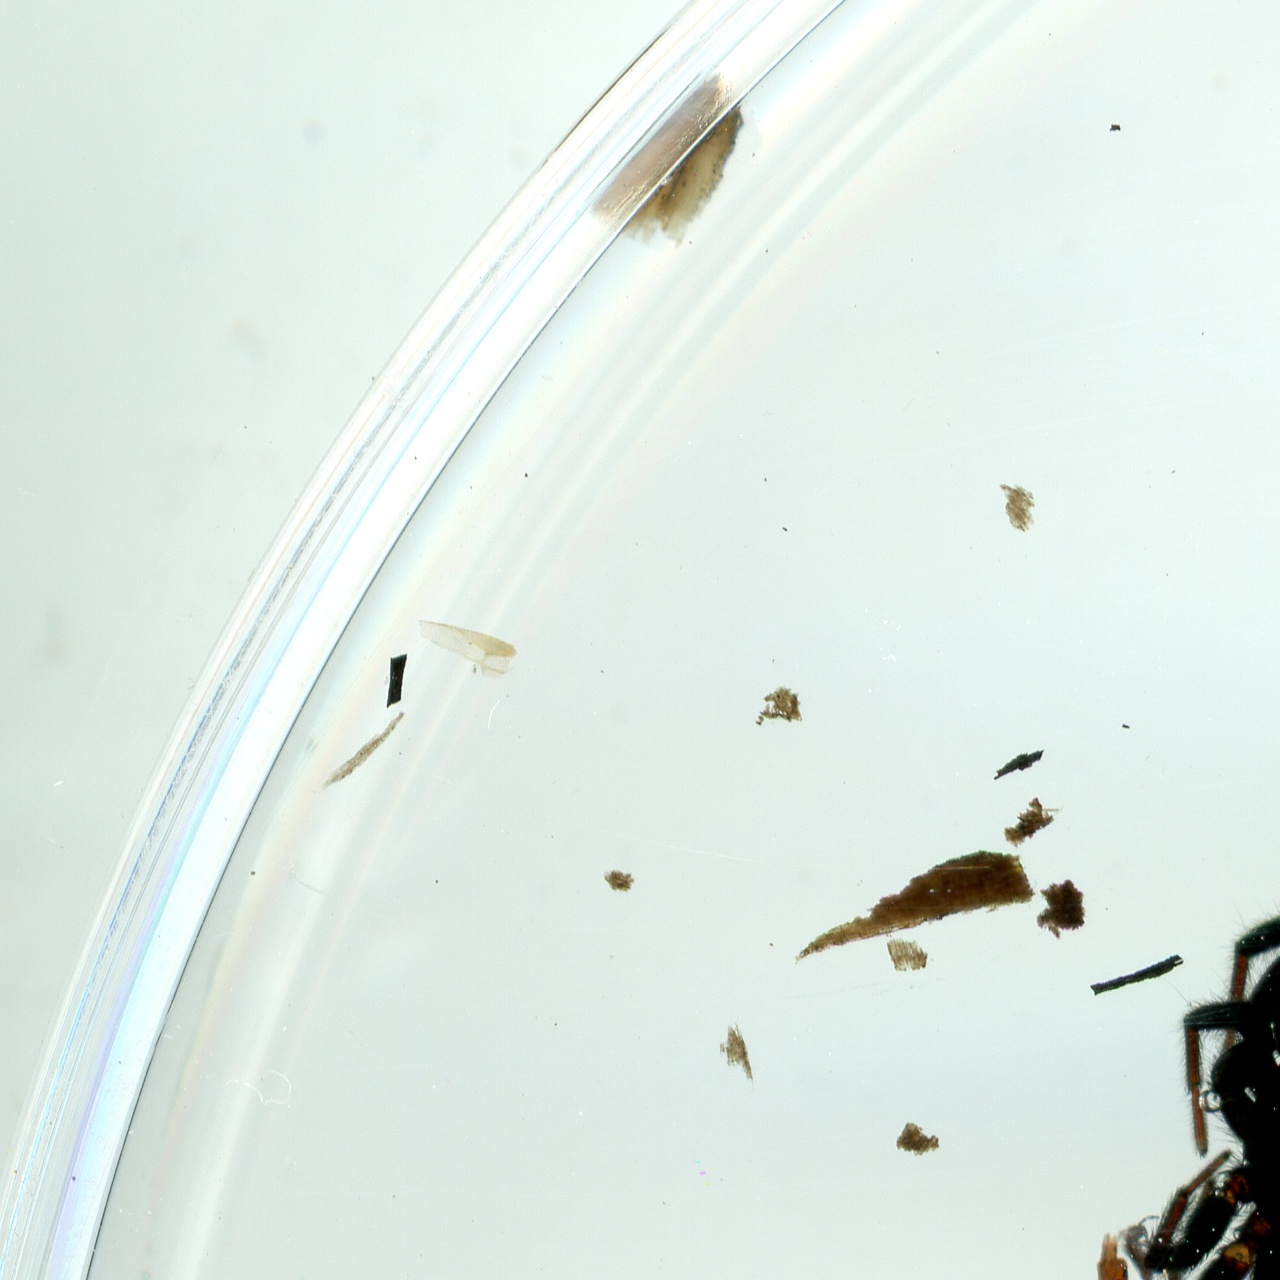arthropod: (1112, 865, 1280, 1280), (1109, 1200, 1163, 1280)
